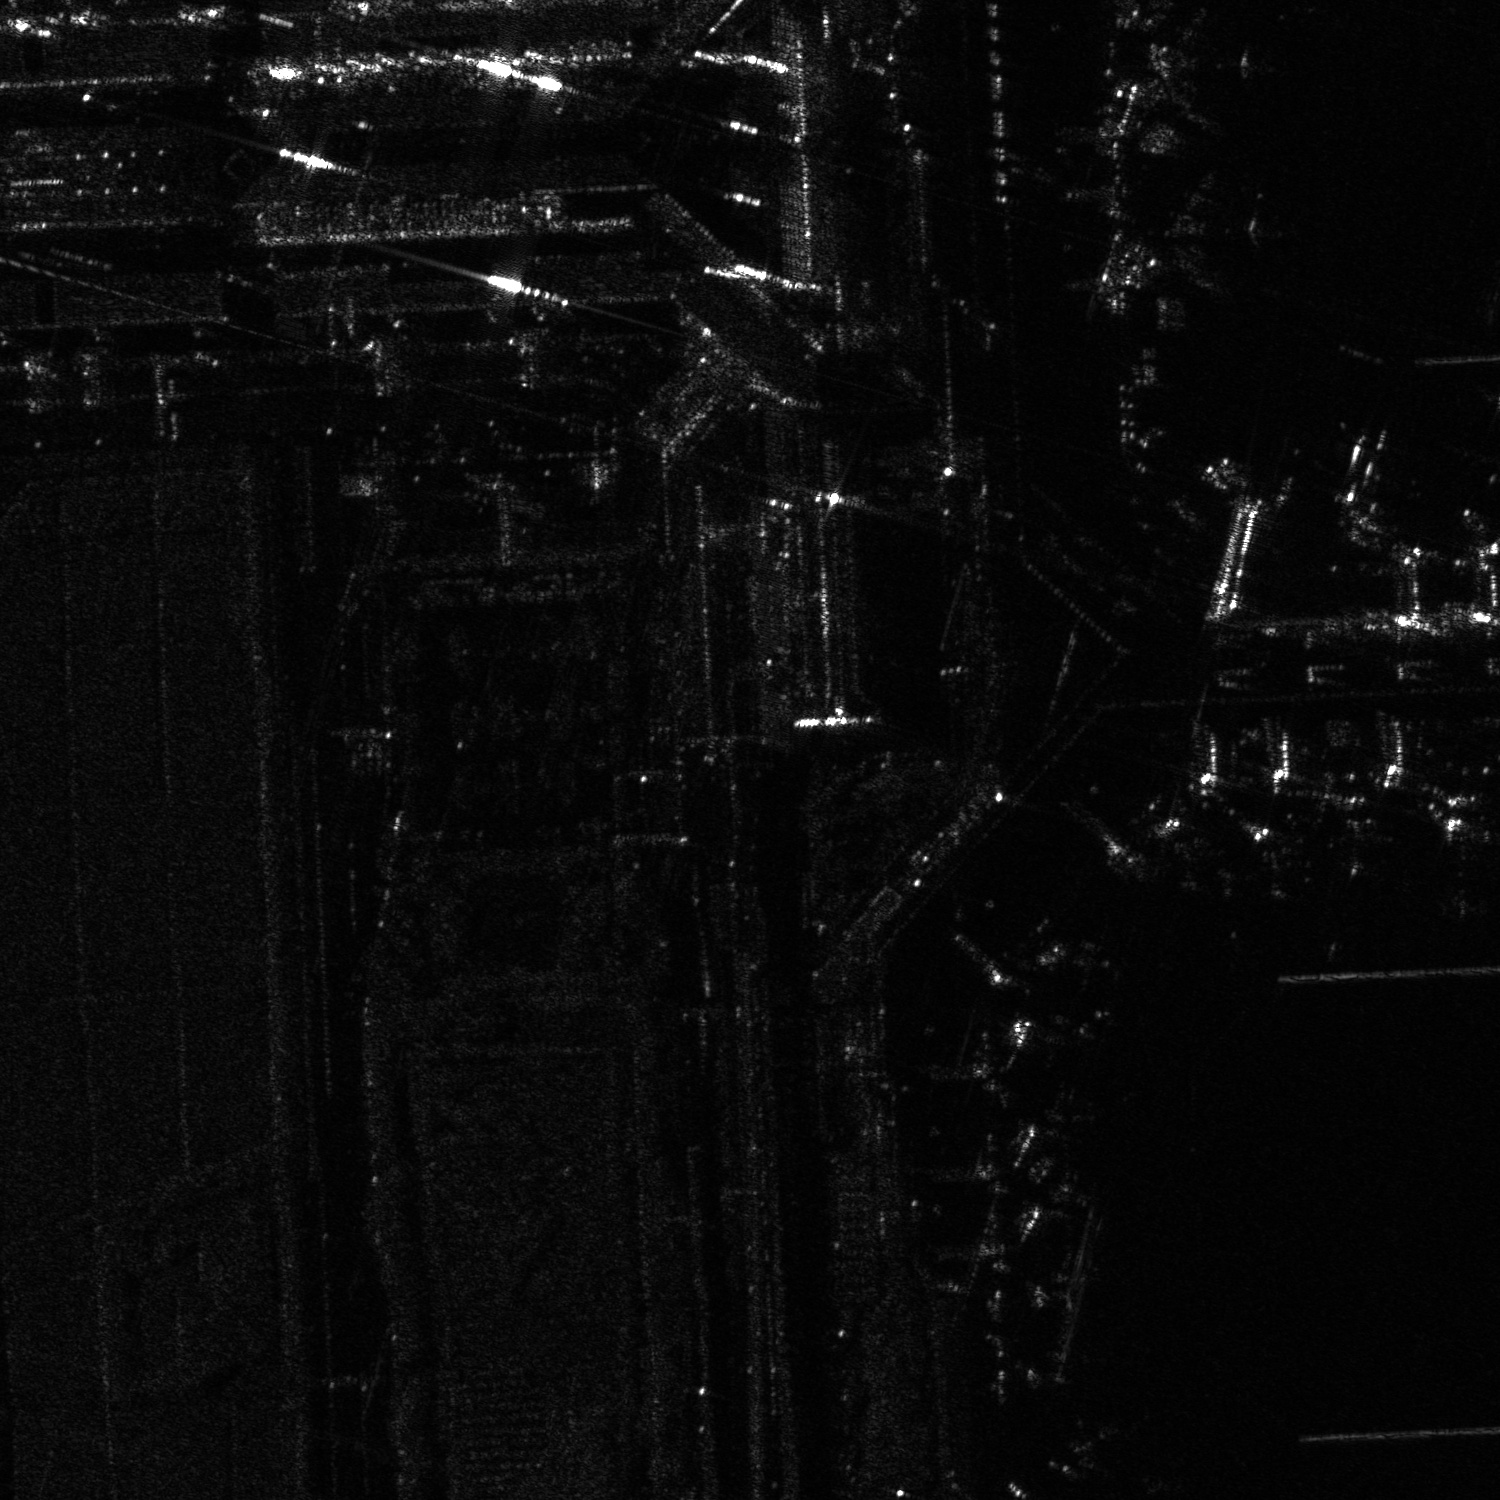A220: (1321, 794, 1396, 886), (1044, 1413, 1126, 1484)
A320/321: (1104, 170, 1262, 295), (1098, 7, 1251, 135)
Boeing787: (1420, 797, 1499, 926)
